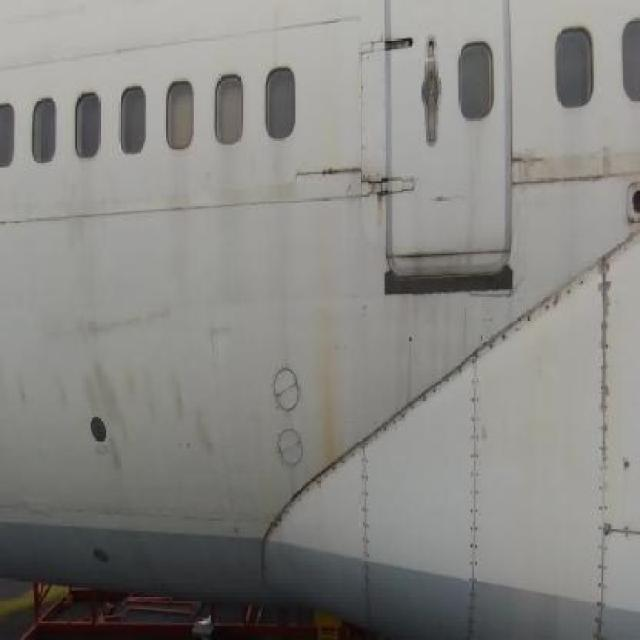Missing-Rivet: (592, 242, 616, 628), (371, 361, 463, 450), (489, 276, 586, 359), (464, 334, 488, 631), (268, 450, 347, 532), (353, 428, 375, 580)
Rust: (313, 232, 349, 480), (373, 167, 395, 233)
Scartch: (10, 298, 247, 492), (512, 144, 622, 210)
